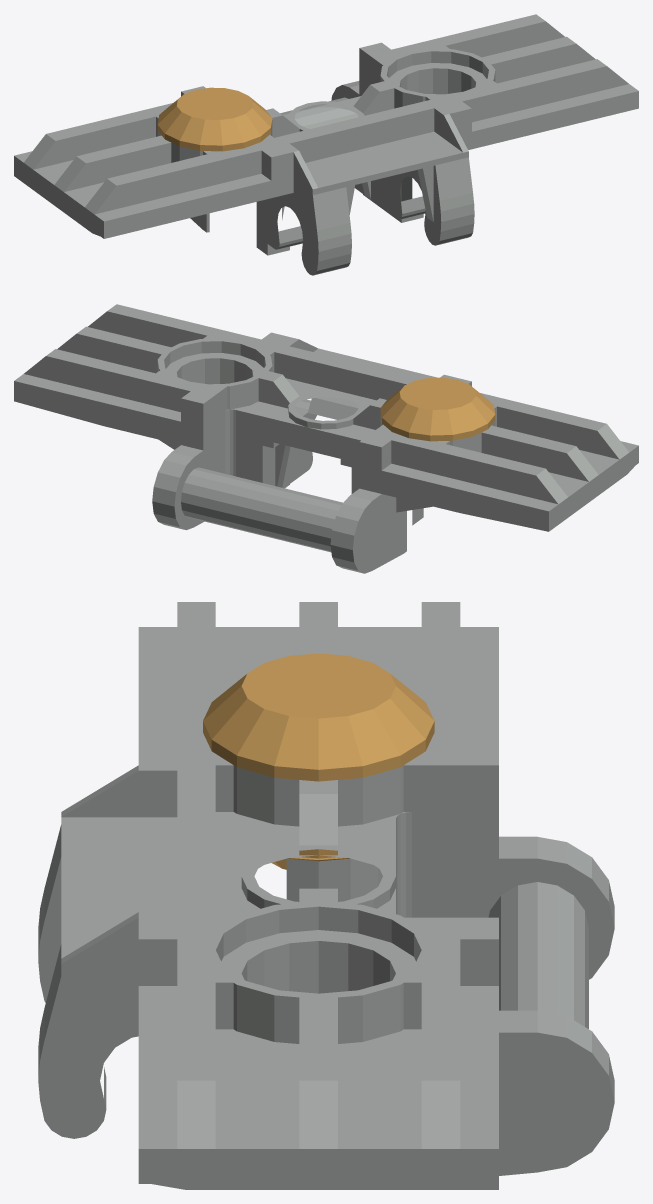
3 renders of one model, top to bottom at view 1: azimuth 30°, elevation 25°; view 2: azimuth 150°, elevation 25°; view 3: azimuth 270°, elevation 25°, orthographic. The views are drawn at different scales.
Visible parts, largest first — view 1: world; view 2: world; view 3: world.
Boxes of the visible parts, bbox=[...] form: world: bbox=[14, 14, 638, 275]; world: bbox=[14, 304, 638, 573]; world: bbox=[38, 602, 614, 1189].
Size of the model in its own units: 0.0384 by 0.01 by 0.0179.
